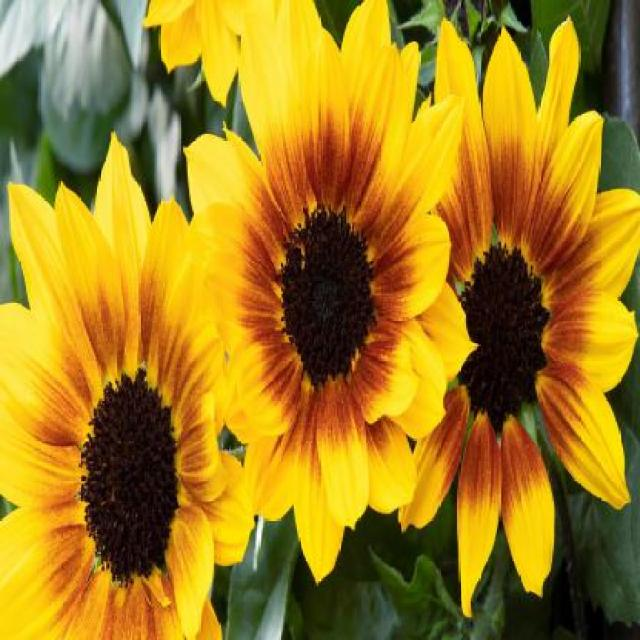sunflower: (189, 0, 454, 551), (406, 12, 640, 625), (0, 124, 260, 639)
